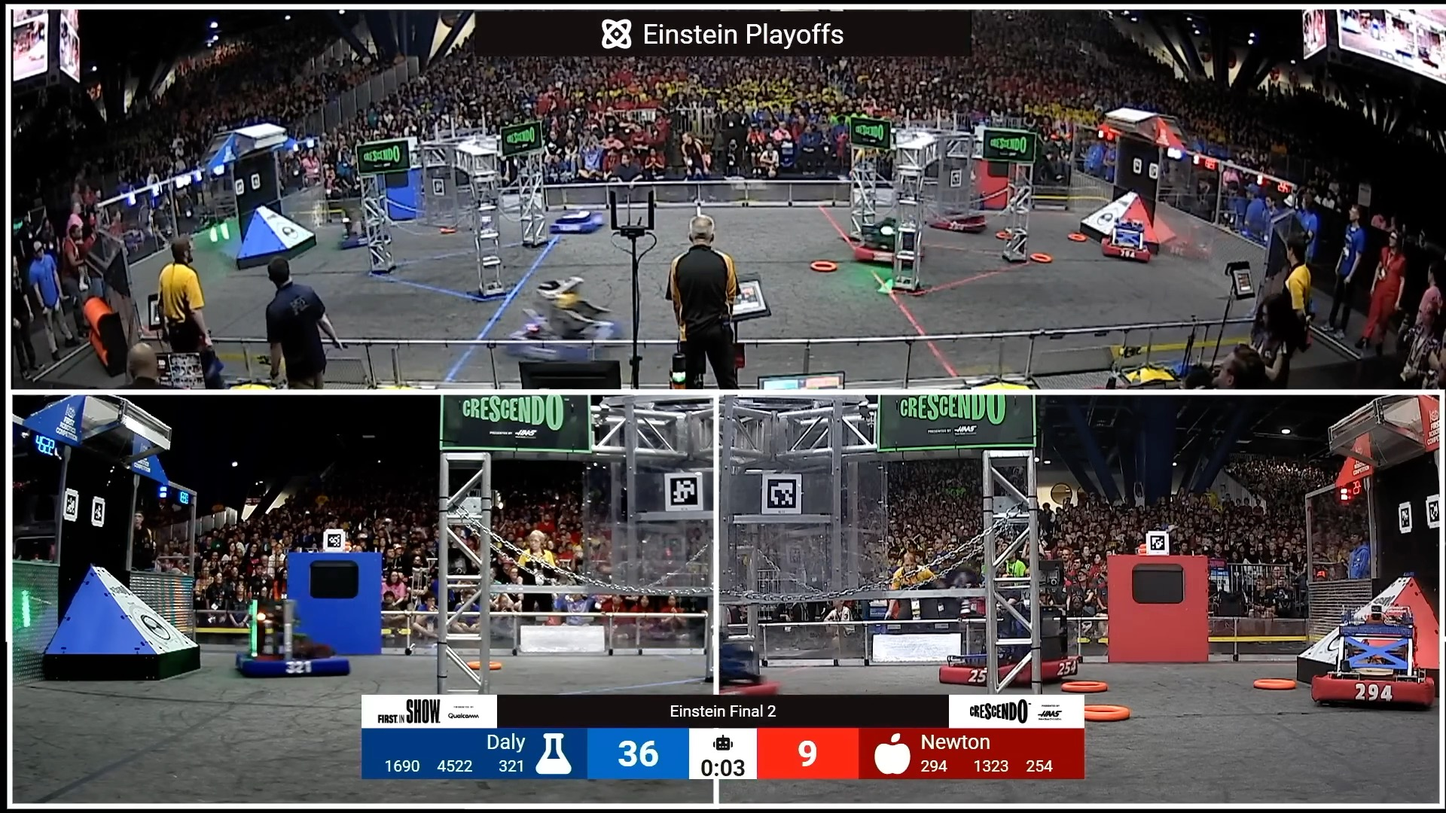bumpers: (506, 313, 631, 372), (931, 659, 1087, 698), (231, 643, 364, 687), (1312, 674, 1443, 713), (1084, 222, 1180, 271), (845, 234, 933, 271), (924, 213, 992, 237), (337, 225, 397, 251), (548, 215, 607, 238)
